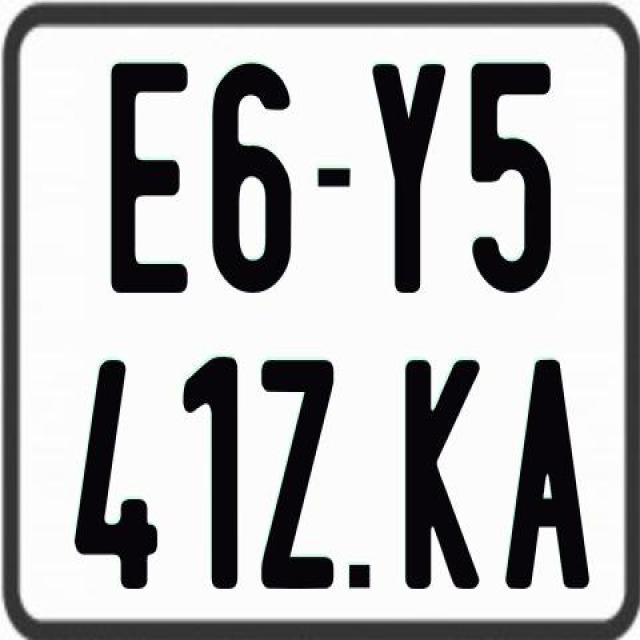1: (181, 354, 240, 590)
4: (72, 358, 160, 588)
5: (470, 62, 554, 293)
6: (209, 59, 292, 293)
A: (502, 356, 590, 588)
E: (110, 58, 196, 294)
K: (402, 360, 479, 592)
Y: (368, 59, 448, 294)
Z: (258, 358, 334, 596)
